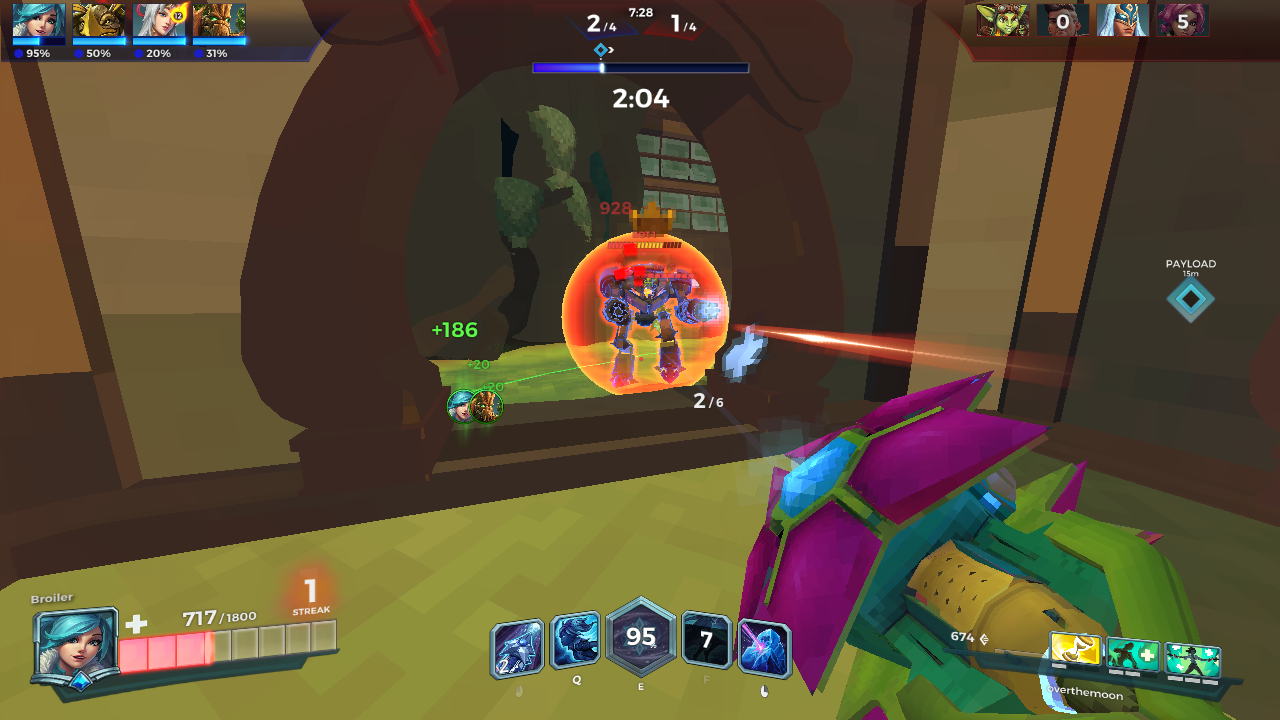model: (585, 250, 710, 393)
